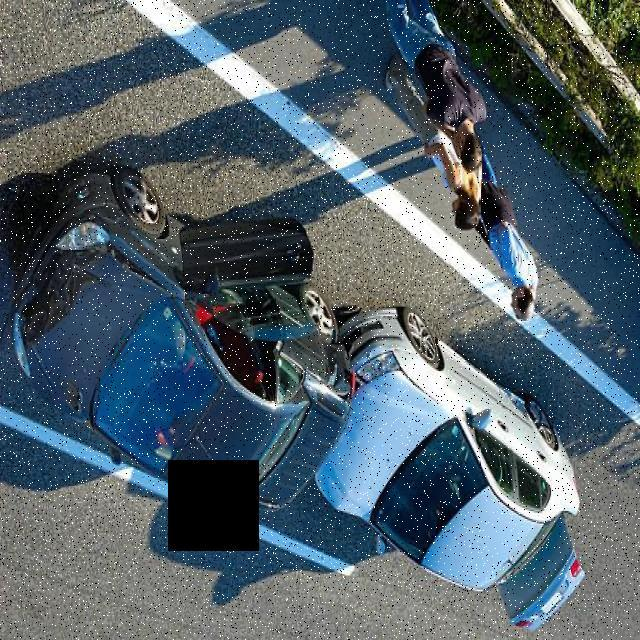moderate: (6, 154, 590, 624)
